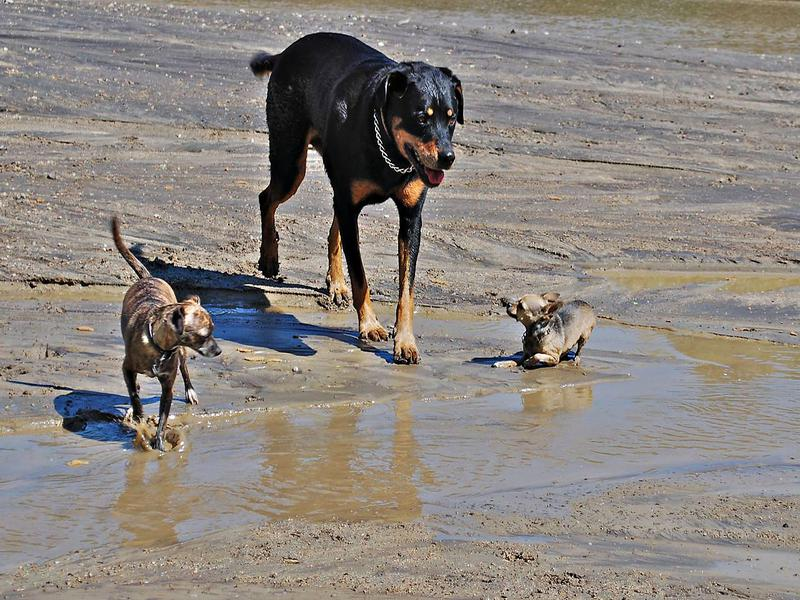dog_stand: (243, 28, 468, 374), (100, 211, 223, 457)
